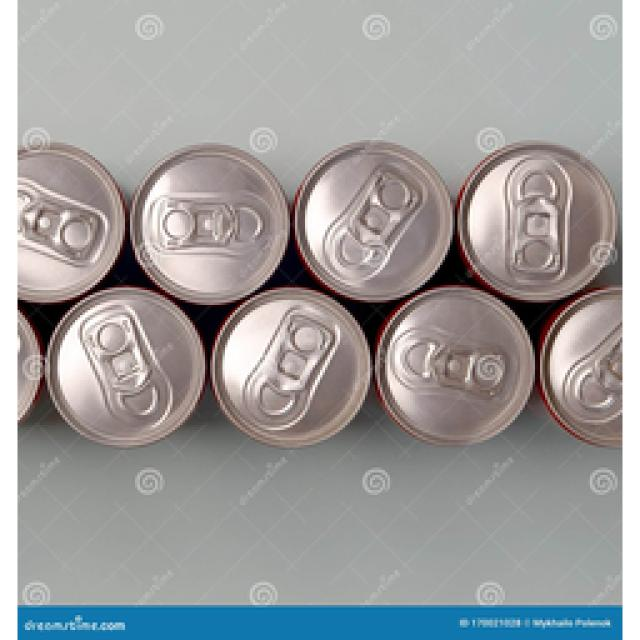aluminum_soda_cans: (130, 138, 290, 294), (47, 297, 215, 440), (215, 297, 368, 443), (472, 140, 612, 290), (383, 303, 537, 435), (305, 152, 443, 296)
